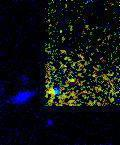star: (58, 65, 88, 95)
